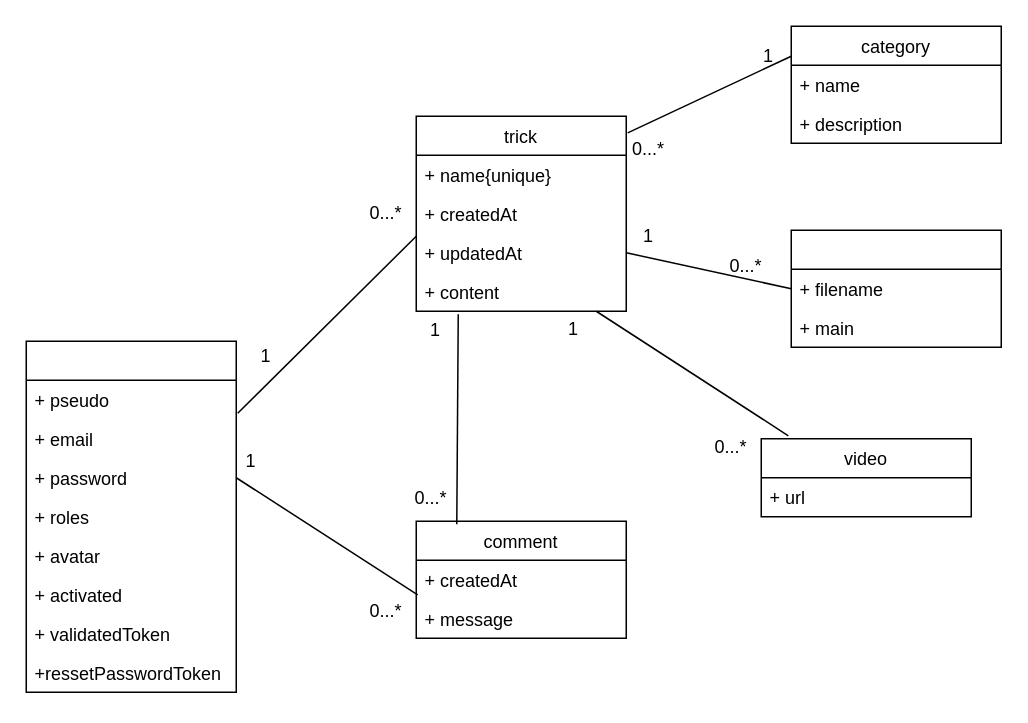
This 1028x723 diagram has some shape labels left out. The shapes that lost their labels are listed below. From the top down, each one's box as (x1, y1, x2, y2) in pixels, then its label:
(790, 229, 1001, 347): picture
(25, 340, 236, 692): user
